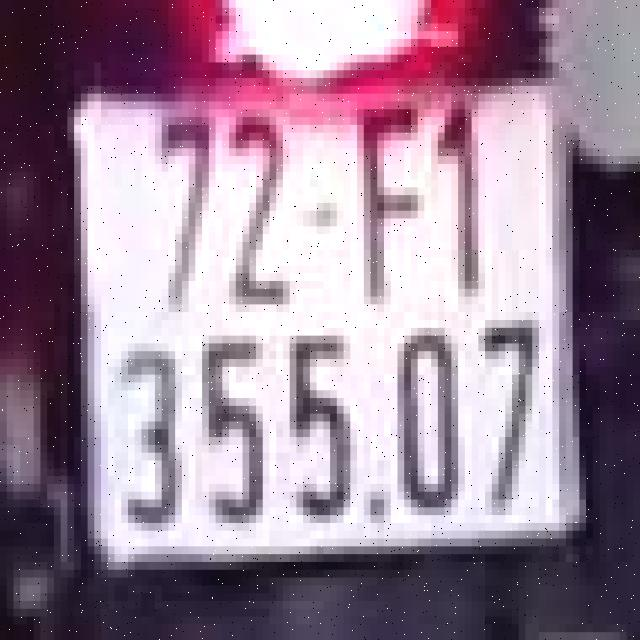0: (384, 324, 465, 519)
1: (431, 86, 492, 304)
2: (226, 94, 300, 320)
3: (114, 316, 188, 543)
5: (283, 328, 364, 531), (199, 332, 266, 527)
7: (152, 98, 219, 316), (472, 308, 539, 512)
F: (344, 86, 431, 312)
